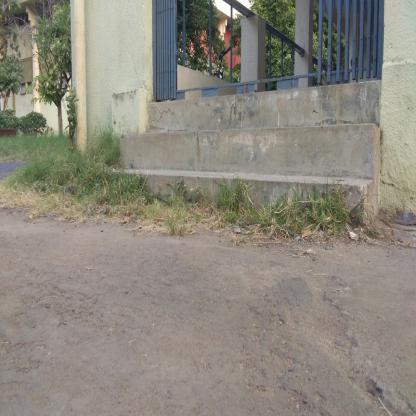stairs: (165, 102, 359, 224)
